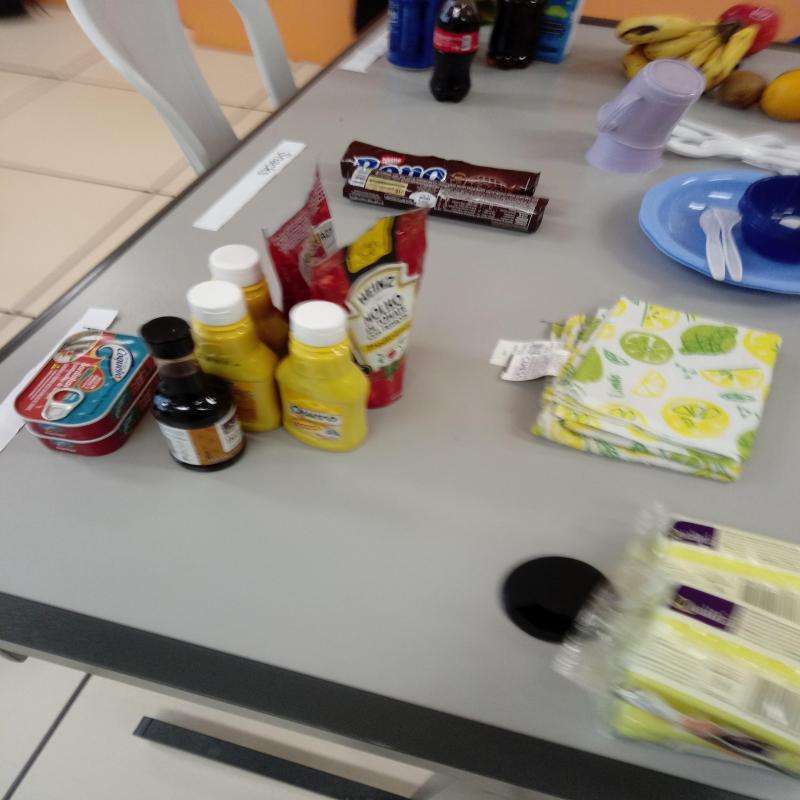Banana: (610, 13, 773, 98)
Cloth: (491, 292, 783, 482)
CoconutWater: (542, 0, 583, 66)
Coke: (431, 1, 484, 107), (486, 0, 549, 68)
Cookies: (341, 167, 548, 234), (339, 138, 542, 196)
EnglishSauce: (145, 320, 250, 470)
Kiwi: (719, 68, 761, 108)
Mustard: (276, 301, 372, 453), (189, 282, 284, 435), (207, 242, 288, 362)
Orange: (766, 67, 800, 121)
Sponge: (554, 562, 800, 770), (627, 506, 800, 596)
TomatoSauce: (304, 202, 440, 414), (267, 166, 343, 310)
Tonic: (386, 0, 438, 68)
TunaCan: (13, 329, 154, 440), (35, 372, 156, 456)
